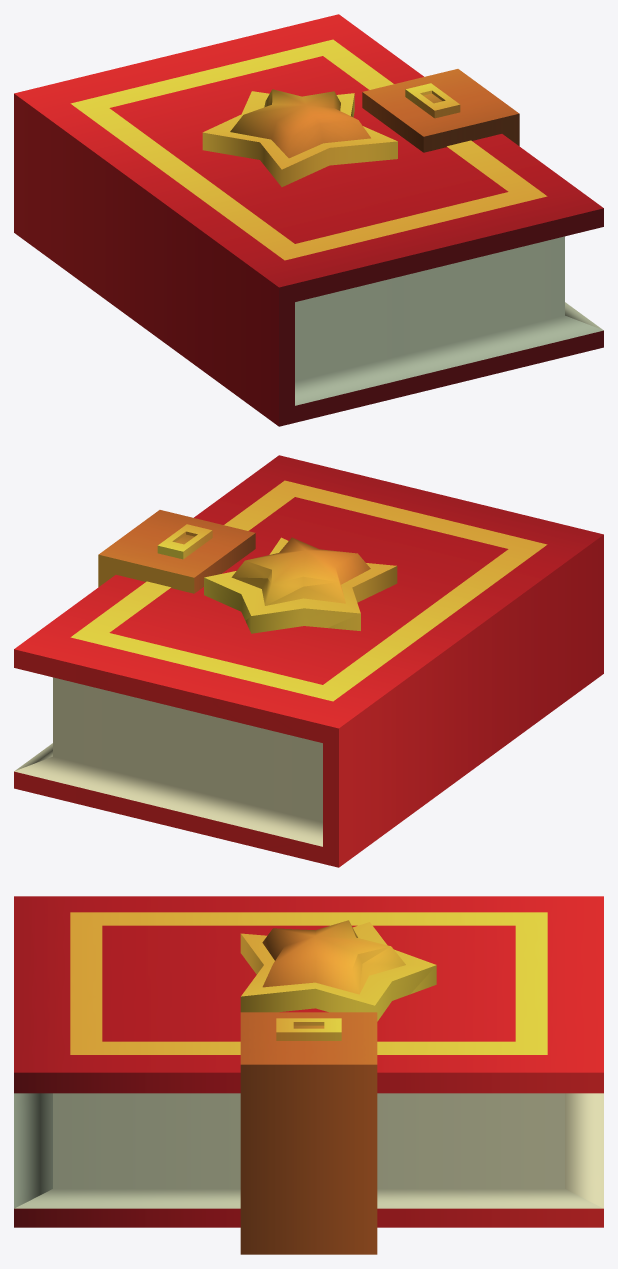
Rendered from book3.fbx.
The picture shows the model from 3 angles, top to bottom: view 1: azimuth 30°, elevation 25°; view 2: azimuth 150°, elevation 25°; view 3: azimuth 270°, elevation 25°; orthographic projection. The views are drawn at different scales.
Visible parts, largest first — view 1: Book3; view 2: Book3; view 3: Book3.
Boxes of the visible parts, x1,y1,x2,y2 form: Book3: (14, 14, 603, 426); Book3: (14, 455, 603, 867); Book3: (14, 896, 603, 1254).
Bounding box in the file's own units: 1.16 × 0.6429 × 1.55.
1 material, 1 textured.
